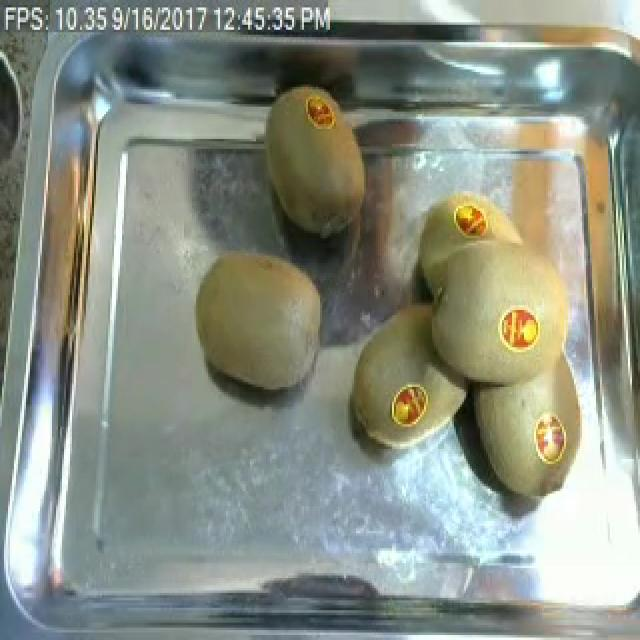Fruit: (406, 149, 580, 402), (456, 307, 598, 508), (188, 238, 332, 400), (256, 74, 378, 248), (494, 298, 550, 360)
